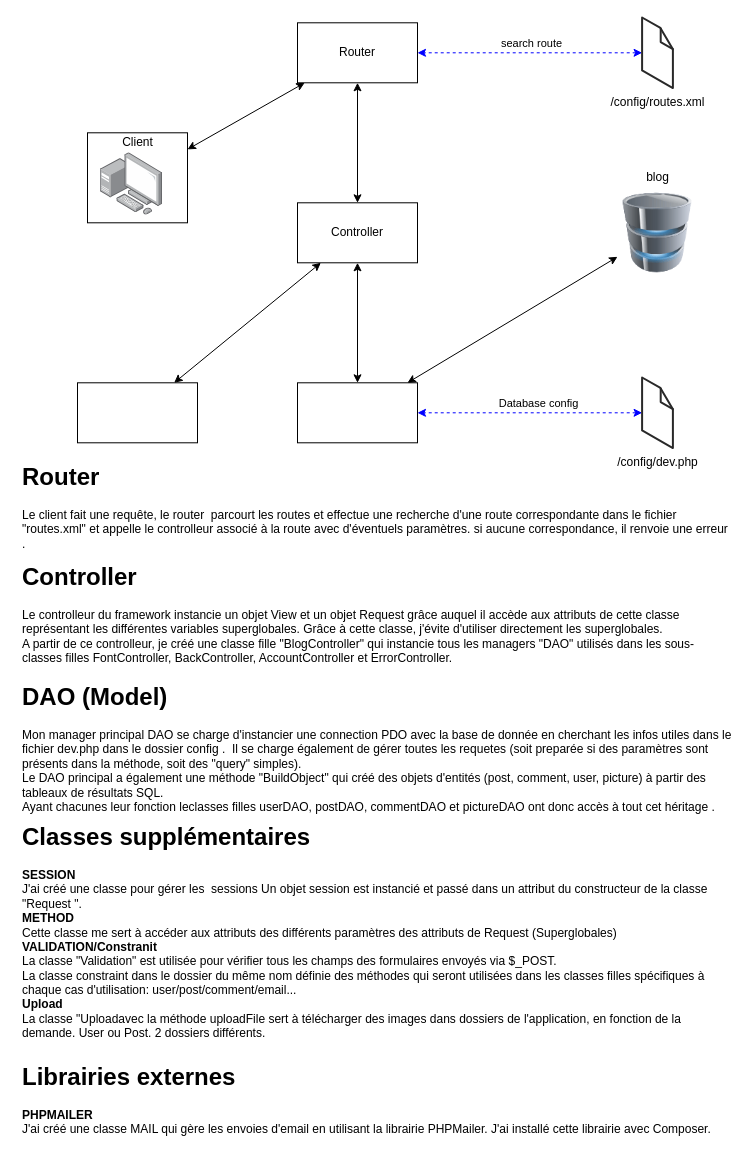
The diagram is 754 pixels wide and 1175 high, and some of its shapes have lost their labels. Each missing label, with the centre of its shape:
Model (DAO): the point at 357,412
View: the point at 137,412
